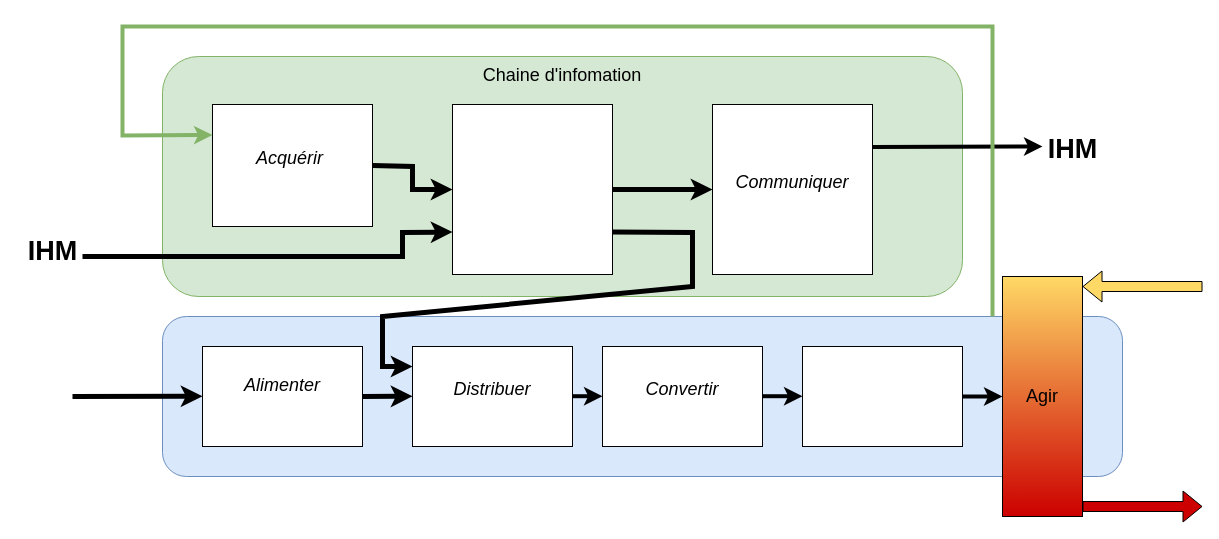
Some shapes in this 1219 by 539 pixel diagram are drawn without their labels. Each missing label, with the box of its shape:
Chaine d'énergie: (162, 316, 1122, 476)
Traiter: (452, 104, 612, 274)
Transmettre: (802, 346, 962, 446)
